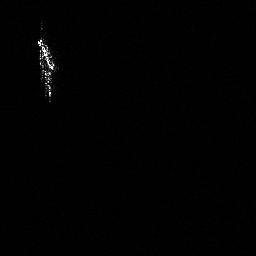ship: (35, 34, 60, 105)
